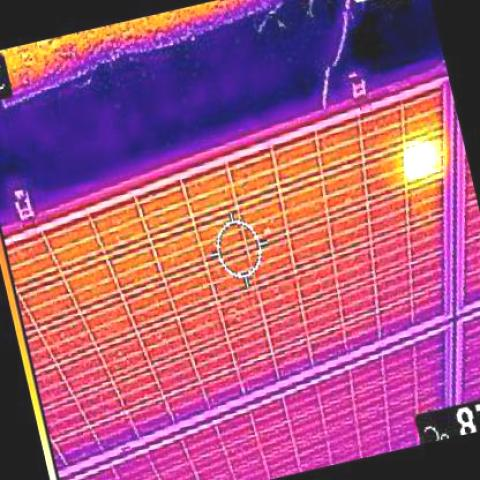fault: (404, 141, 444, 179)
